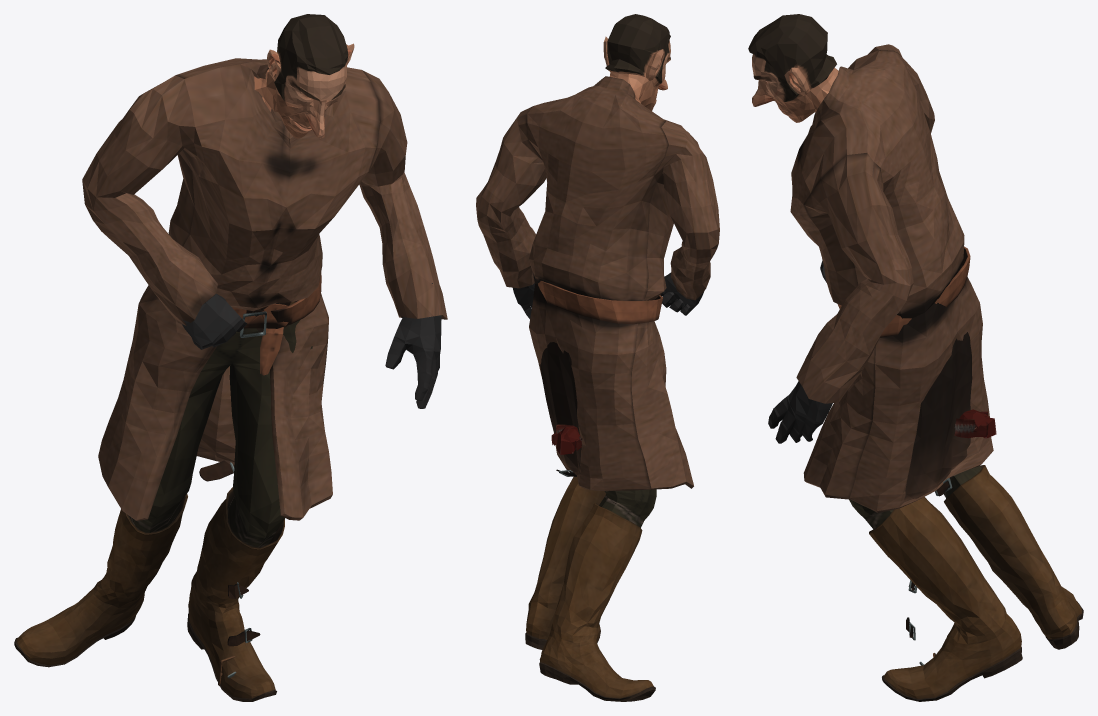
The model's file is sniper01_000026.obj.
3 renders of one model, left to right at view 1: azimuth 30°, elevation 25°; view 2: azimuth 150°, elevation 25°; view 3: azimuth 270°, elevation 25°, orthographic. The views are drawn at different scales.
Visible parts, largest first — view 1: Tops, Shoes, Bottoms, BodyParts; view 2: Tops, Shoes, BodyParts, Bottoms; view 3: Tops, Shoes, BodyParts, Bottoms.
Boxes of the visible parts, left/top/right/bottom form: Tops: left=82, top=58, right=447, bottom=678; Shoes: left=14, top=487, right=284, bottom=701; Bottoms: left=129, top=302, right=312, bottom=686; BodyParts: left=182, top=14, right=441, bottom=408; Tops: left=476, top=76, right=719, bottom=491; Shoes: left=525, top=476, right=655, bottom=701; BodyParts: left=513, top=14, right=703, bottom=454; Bottoms: left=599, top=489, right=656, bottom=527; Tops: left=790, top=44, right=993, bottom=665; Shoes: left=869, top=465, right=1083, bottom=701; BodyParts: left=748, top=14, right=996, bottom=443; Bottoms: left=849, top=466, right=981, bottom=657.
Size of the model in its own units: 1.09 by 2.44 by 1.1.
